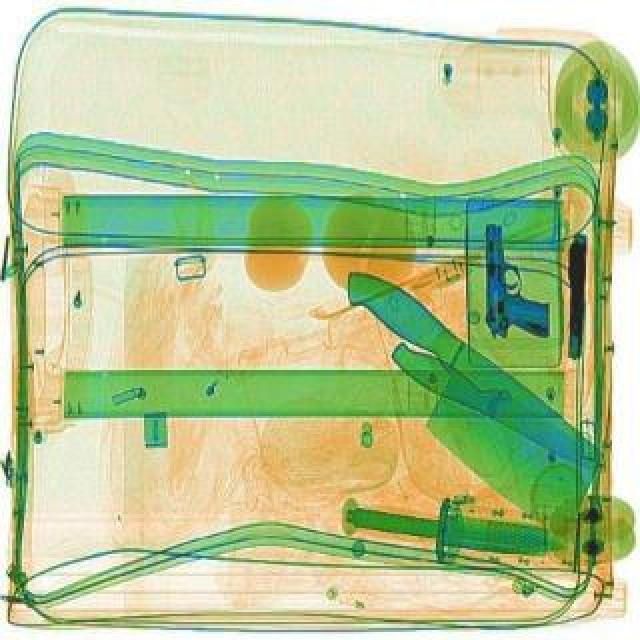gun: (482, 222, 550, 338), (560, 232, 590, 358)
knife: (292, 258, 632, 542), (382, 332, 614, 480), (348, 500, 564, 560)
